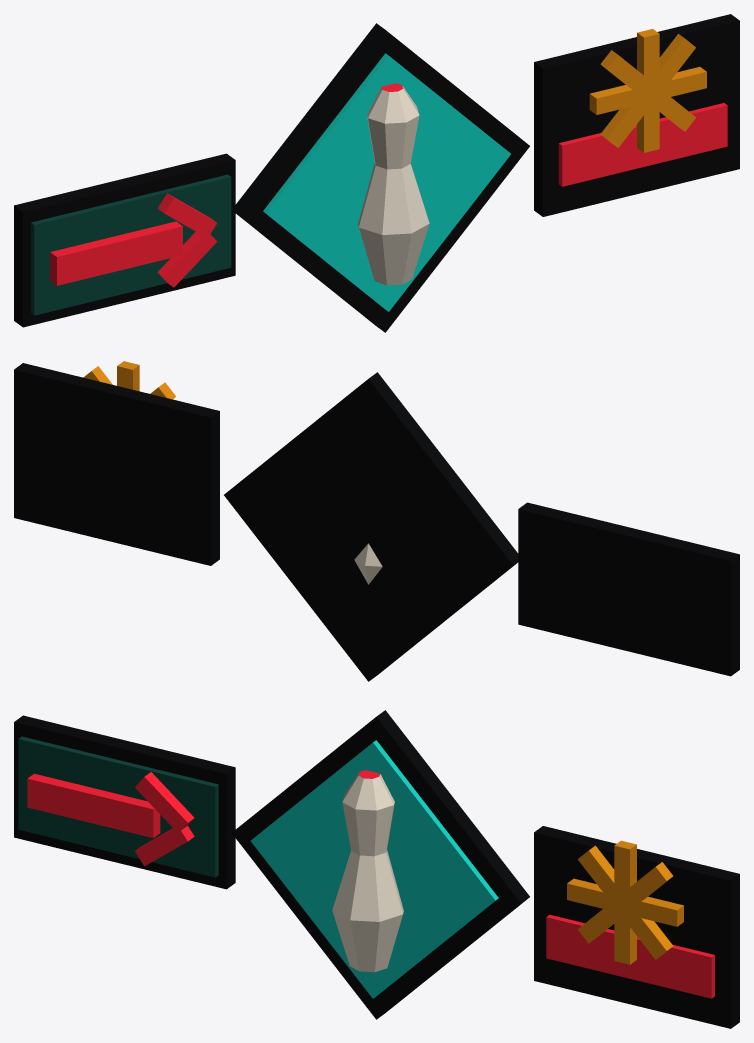
Rendered from cozy_bowling_neon_wall_signs.obj.
3 views of the same model, one above another, from view 1: azimuth 30°, elevation 25°; view 2: azimuth 150°, elevation 25°; view 3: azimuth 330°, elevation 25° (orthographic).
Visible parts, largest first — view 1: NeonSigns_Mesh; view 2: NeonSigns_Mesh; view 3: NeonSigns_Mesh.
Part boxes in pixels (left/top/right/bottom): NeonSigns_Mesh: left=14, top=14, right=739, bottom=332; NeonSigns_Mesh: left=14, top=361, right=739, bottom=681; NeonSigns_Mesh: left=14, top=710, right=739, bottom=1028.
Size of the model in its own units: 1.82 by 0.7354 by 0.17.
